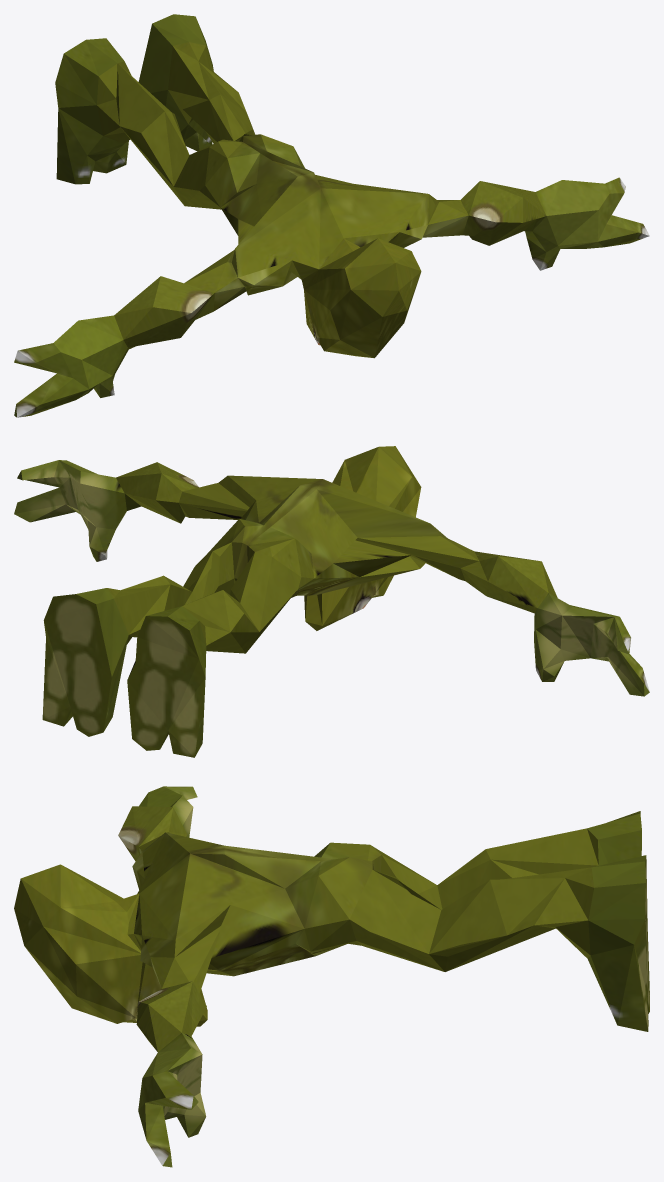
The model's file is greenalienboned_wtf.obj.
3 renders of one model, top to bottom at view 1: azimuth 30°, elevation 25°; view 2: azimuth 150°, elevation 25°; view 3: azimuth 270°, elevation 25°, orthographic. The views are drawn at different scales.
Parts seen in each view (by area): view 1: group1; view 2: group1; view 3: group1.
Boxes of the visible parts, bbox=[...] form: group1: bbox=[14, 14, 649, 417]; group1: bbox=[14, 446, 649, 757]; group1: bbox=[14, 786, 649, 1167].
Size of the model in its own units: 660 by 168 by 499.
